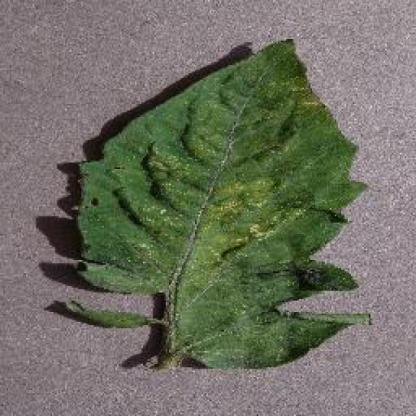Tomato_Spider_Mites: (65, 39, 372, 366)
